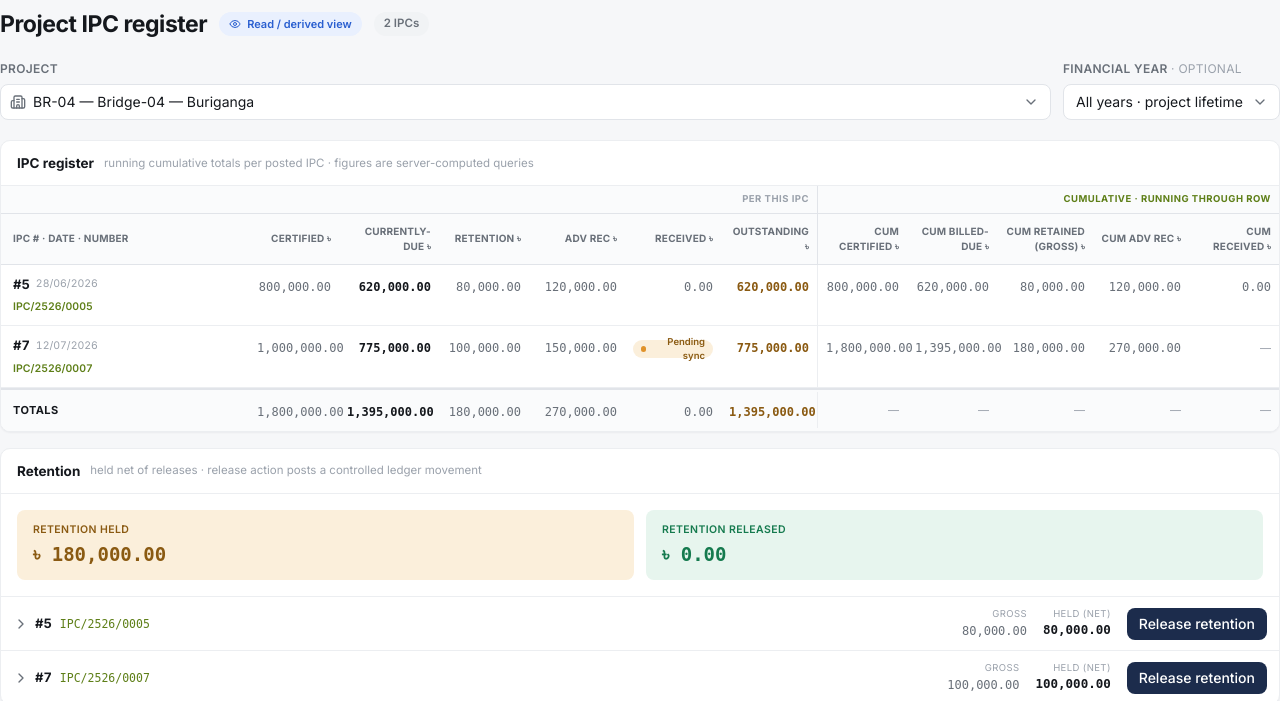
Retention panel + Release-retention dialog (spec §5/§6/§7/§8) › surfaces a per-IPC releases-list fetch failure inline with a retry (spec §6 partial)
The image size is (1280, 701).
Expected: the element with test id "reg-grid" is shown, [1,186,1279,431]
Click the button with test id "ret-row-toggle-ipc-7" at (105, 678), box [13,668,931,687]
(page scrolled)
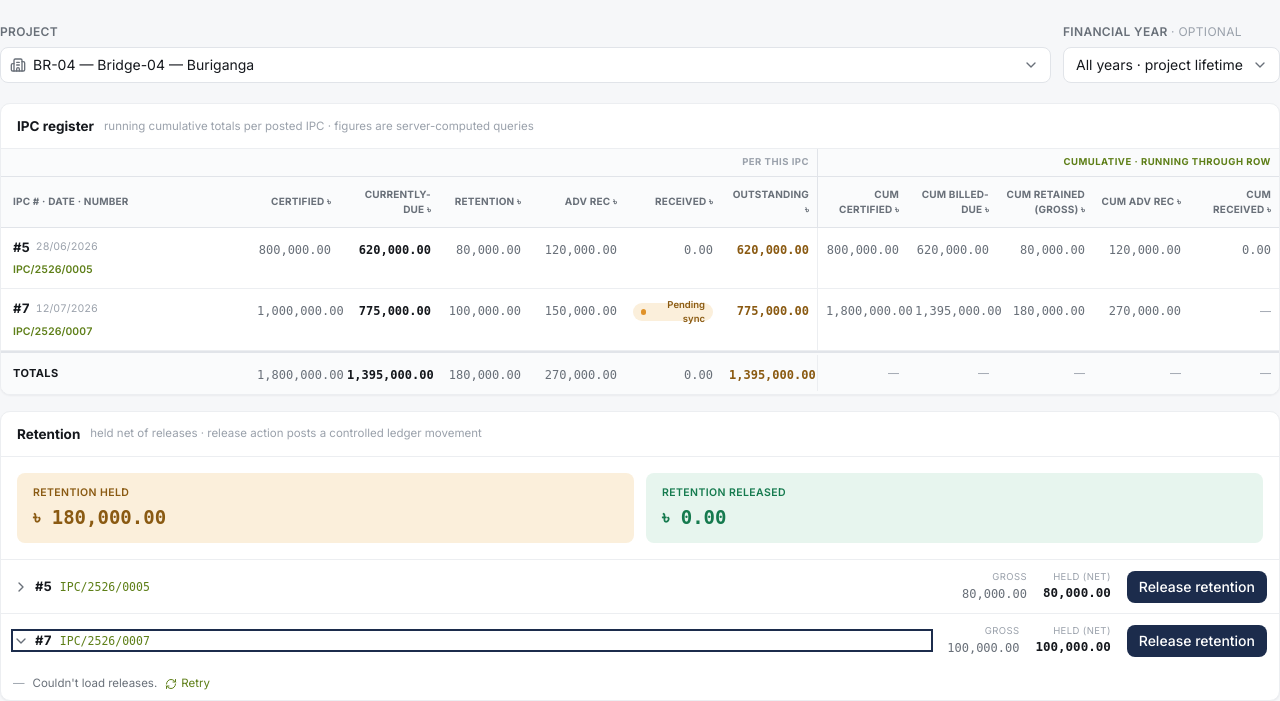
Result: the element with test id "releases-error-ipc-7" is shown at [13,675,210,692]
Result: the button with test id "releases-retry-ipc-7" is shown at [165,675,210,692]
